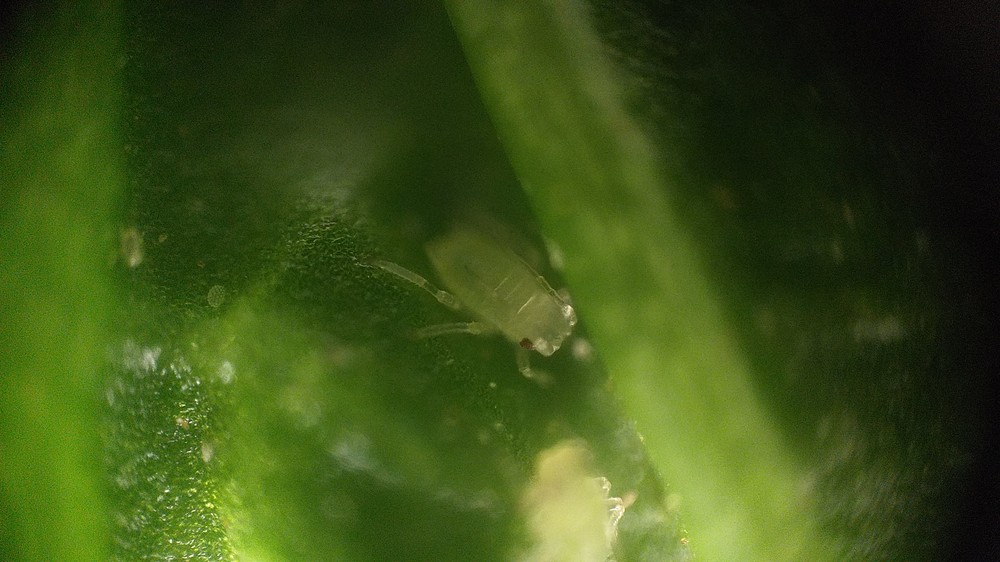Pulgon: (368, 185, 608, 401)
